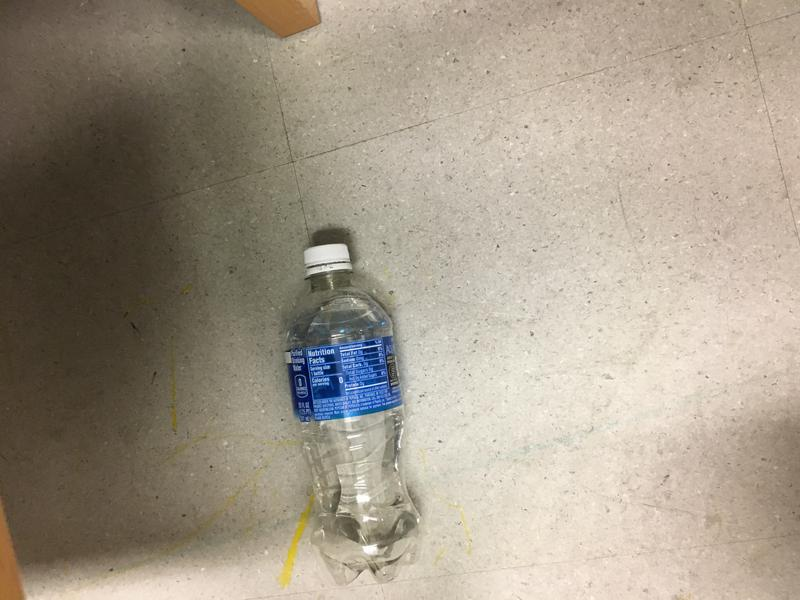bottle: (286, 241, 426, 586)
